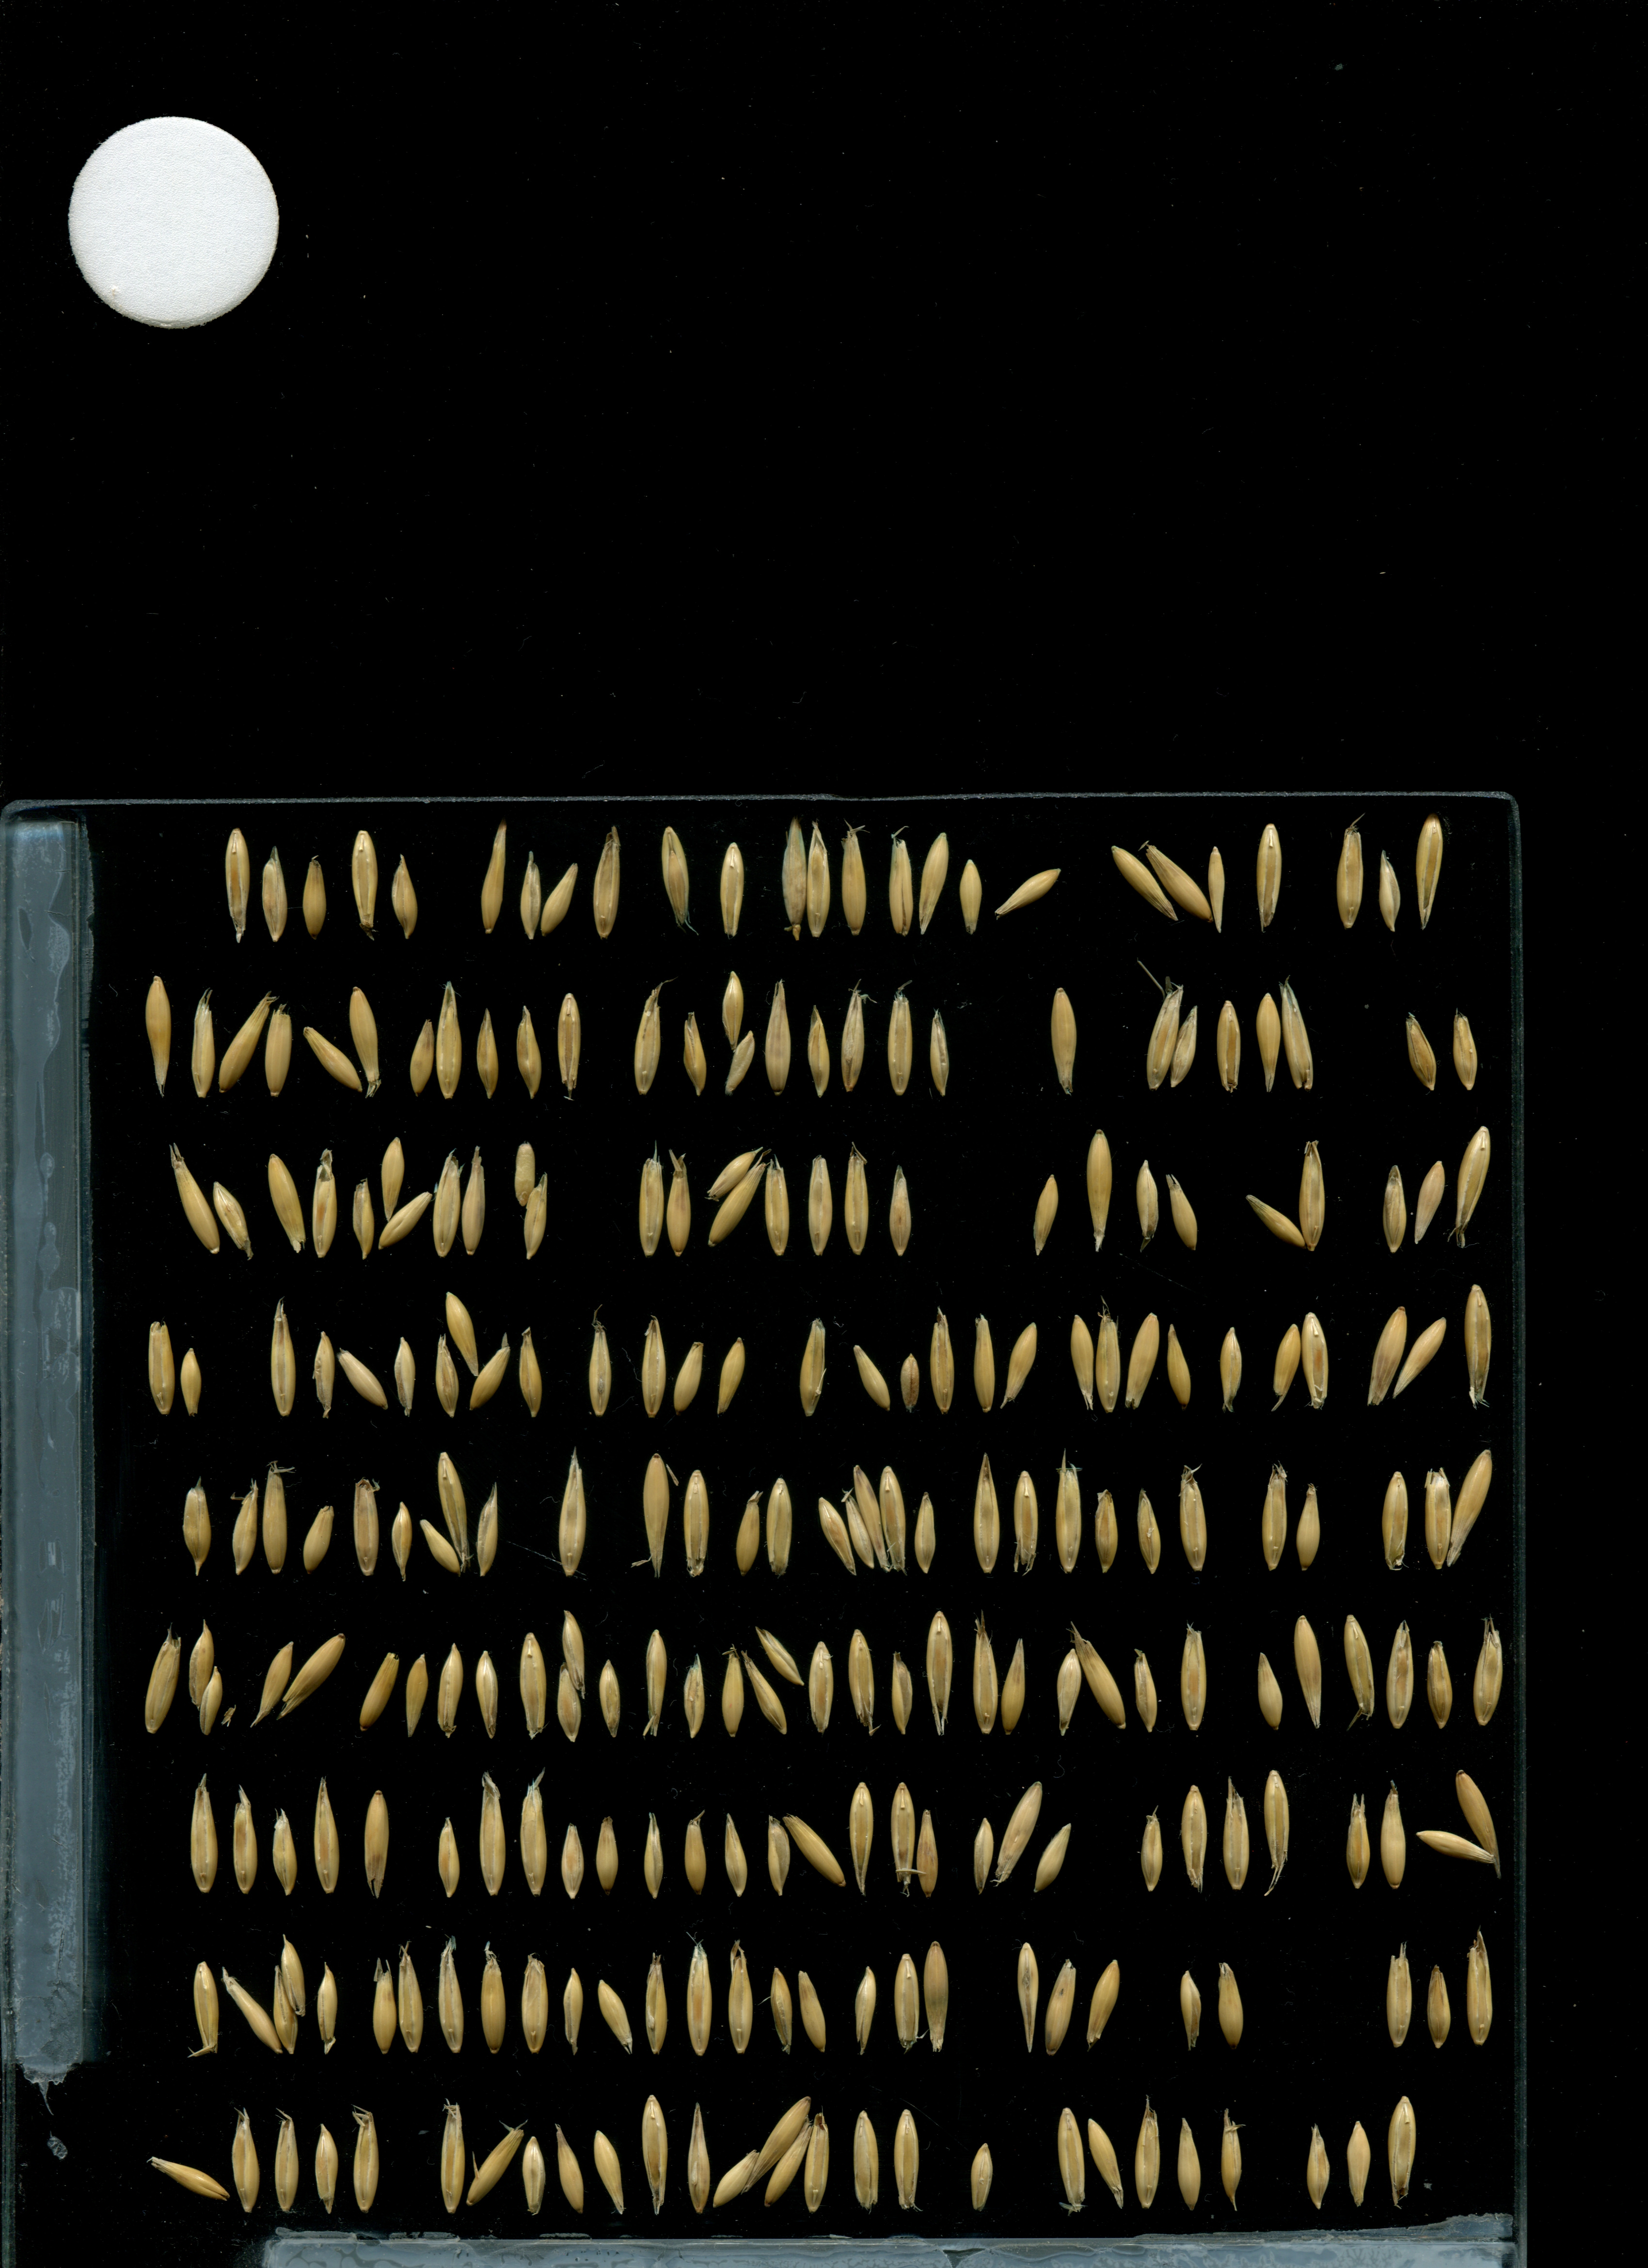WholeGrain: (1440, 1447, 1498, 1571), (1070, 1624, 1130, 1734), (218, 1967, 289, 2058), (748, 2092, 813, 2191), (169, 1141, 222, 1257), (217, 995, 276, 1097), (1146, 836, 1213, 923), (1106, 845, 1178, 924), (995, 1777, 1046, 1886), (704, 1159, 766, 1248), (282, 1632, 345, 1719), (465, 2120, 528, 2206), (782, 1808, 847, 1891), (254, 829, 298, 951), (296, 829, 340, 951), (336, 822, 380, 944), (470, 817, 514, 939), (586, 821, 630, 942), (215, 826, 259, 946), (555, 1446, 593, 1581), (636, 1442, 674, 1578), (676, 1449, 715, 1585), (968, 1446, 1007, 1581), (1049, 1442, 1088, 1578), (1009, 1449, 1048, 1585), (919, 1609, 960, 1738), (1143, 979, 1188, 1092), (655, 819, 697, 940), (1173, 1460, 1213, 1583), (1252, 1458, 1292, 1581), (1451, 1122, 1490, 1248), (850, 1463, 893, 1579), (352, 1636, 401, 1734), (963, 1615, 1004, 1734), (1458, 1282, 1497, 1407), (1289, 1613, 1329, 1731), (1173, 1616, 1213, 1734), (1454, 1770, 1504, 1867), (1123, 1294, 1160, 1421), (1081, 2110, 1129, 2208), (739, 1650, 791, 1741), (997, 1624, 1035, 1741), (842, 1620, 880, 1738), (773, 819, 810, 942), (880, 819, 917, 942), (914, 817, 951, 940), (1412, 810, 1449, 933), (1210, 979, 1247, 1102), (880, 976, 917, 1099), (630, 977, 667, 1101), (347, 977, 384, 1101), (137, 970, 174, 1093), (1079, 1125, 1116, 1248), (803, 1138, 840, 1261), (632, 1145, 669, 1268), (428, 1139, 465, 1263), (148, 2152, 234, 2205), (299, 1025, 364, 1093), (384, 843, 426, 949), (710, 836, 752, 942), (141, 1631, 183, 1736), (1365, 1303, 1407, 1407), (1338, 1611, 1377, 1724), (799, 817, 835, 940), (1252, 815, 1287, 939), (1333, 814, 1368, 937), (1280, 970, 1315, 1093), (1252, 970, 1287, 1093), (1046, 974, 1081, 1097), (836, 974, 872, 1097), (759, 977, 794, 1101), (549, 977, 585, 1101), (433, 977, 468, 1101), (187, 984, 222, 1108), (1296, 1132, 1331, 1255), (838, 1138, 873, 1261), (759, 1138, 794, 1261), (662, 1145, 697, 1268), (430, 1139, 465, 1263), (637, 2092, 673, 2215), (764, 2118, 815, 2203), (835, 817, 870, 939), (255, 1462, 292, 1576), (347, 2101, 384, 2215), (229, 2102, 266, 2217), (1393, 1317, 1446, 1396), (178, 1479, 222, 1574), (812, 1491, 859, 1579), (268, 1150, 306, 1257), (990, 863, 1065, 917), (1090, 1298, 1123, 1421), (250, 1638, 296, 1727), (437, 1447, 472, 1564), (803, 1632, 842, 1738), (1130, 1634, 1169, 1740), (754, 1624, 812, 1694), (269, 2102, 305, 2217), (262, 995, 299, 1102), (268, 1307, 303, 1419), (1055, 2101, 1090, 2213), (347, 1472, 382, 1583), (477, 1775, 509, 1898), (1041, 1949, 1076, 2060), (1421, 1463, 1456, 1572), (1093, 1476, 1129, 1585), (1423, 1624, 1458, 1733), (1296, 1307, 1333, 1410), (849, 1338, 898, 1416), (1245, 1190, 1306, 1252), (372, 1192, 435, 1252), (1294, 1474, 1329, 1581), (1377, 1465, 1412, 1572), (1132, 1477, 1167, 1585), (909, 1476, 944, 1583), (761, 1474, 796, 1581), (1468, 1622, 1504, 1729), (1384, 1620, 1419, 1727), (1085, 1953, 1123, 2050), (143, 1317, 178, 1423), (1134, 2097, 1167, 2208), (190, 1773, 220, 1896), (229, 1778, 259, 1902), (312, 1775, 342, 1898), (361, 1780, 391, 1903), (519, 1773, 549, 1896), (847, 1775, 877, 1898), (887, 1775, 917, 1898), (1181, 1771, 1211, 1895), (1262, 1768, 1292, 1891), (1377, 1768, 1407, 1891), (1063, 1307, 1097, 1416), (444, 1284, 481, 1382), (1049, 1641, 1086, 1740), (1416, 1824, 1498, 1868), (1220, 1771, 1250, 1893), (479, 1940, 509, 2060), (880, 1462, 910, 1579), (1213, 1321, 1250, 1416), (467, 1338, 514, 1412), (703, 1145, 761, 1204), (1410, 1157, 1449, 1247), (225, 1474, 261, 1572), (518, 1622, 546, 1745), (338, 1347, 391, 1412), (1465, 1926, 1493, 2048), (1014, 1937, 1042, 2058), (213, 1174, 252, 1263), (852, 2104, 884, 2212), (884, 1164, 921, 1255), (1026, 1166, 1063, 1257), (928, 1310, 958, 1423), (639, 1310, 669, 1423), (521, 1939, 549, 2058), (437, 1937, 465, 2057), (396, 1935, 424, 2055), (511, 1004, 544, 1104), (583, 1315, 614, 1421), (924, 1937, 953, 2055), (1164, 1167, 1201, 1257), (1125, 1157, 1162, 1247), (1375, 1162, 1412, 1252), (188, 1956, 222, 2055), (967, 1310, 998, 1414), (796, 1315, 828, 1419), (541, 859, 583, 937), (717, 1027, 761, 1101), (1387, 2088, 1414, 2212), (732, 1484, 766, 1581), (1034, 1819, 1074, 1898), (597, 1976, 636, 2058), (1162, 1322, 1199, 1409), (1004, 1317, 1041, 1403), (474, 1004, 505, 1104), (954, 852, 990, 942), (384, 1495, 419, 1585), (893, 2106, 923, 2212), (893, 1948, 923, 2053), (713, 1333, 752, 1414), (474, 1483, 505, 1581), (438, 2102, 467, 2213), (514, 1326, 548, 1419), (727, 1940, 754, 2058), (687, 1937, 713, 2053), (298, 1500, 338, 1576), (518, 1171, 551, 1263), (1384, 1949, 1414, 2051), (185, 1615, 217, 1710), (1215, 1953, 1247, 2048), (553, 2122, 585, 2217), (416, 1514, 461, 1579), (849, 1958, 879, 2057), (312, 1956, 342, 2055), (794, 1969, 828, 2057), (592, 2129, 625, 2217), (641, 1627, 667, 1738), (715, 2145, 762, 2206), (407, 1000, 435, 1104), (345, 1182, 380, 1264), (644, 1940, 669, 2058), (1203, 840, 1232, 937), (1271, 1317, 1305, 1403), (597, 1638, 625, 1740), (472, 1641, 500, 1743), (437, 1641, 465, 1743), (401, 1641, 430, 1743), (687, 2099, 711, 2215), (803, 1002, 833, 1097), (269, 1807, 299, 1902), (435, 1808, 465, 1903), (558, 1810, 588, 1905), (592, 1807, 622, 1902), (639, 1807, 669, 1902), (681, 1805, 711, 1900), (722, 1805, 752, 1900), (764, 1805, 794, 1900), (914, 1805, 944, 1900), (968, 1807, 998, 1902), (1137, 1805, 1167, 1900), (1343, 1796, 1373, 1891), (1423, 1956, 1453, 2051), (1176, 1956, 1206, 2051), (430, 1335, 463, 1419), (722, 1641, 750, 1741), (680, 1641, 708, 1741), (560, 1606, 590, 1699), (1405, 1005, 1437, 1093), (924, 1009, 956, 1097), (680, 1007, 711, 1095), (313, 1150, 338, 1263), (310, 1324, 338, 1423), (1169, 1004, 1201, 1090), (671, 1336, 706, 1414), (280, 1930, 308, 2027), (842, 1486, 873, 1571), (1174, 2111, 1203, 2206), (1449, 1004, 1479, 1092), (1254, 1646, 1284, 1734), (313, 2120, 342, 2213), (806, 2113, 831, 2219), (1373, 847, 1403, 933), (389, 1335, 419, 1421), (889, 1645, 916, 1741), (766, 1962, 792, 2058), (372, 1956, 396, 2057), (271, 1963, 298, 2055), (1347, 2113, 1372, 2210), (558, 1963, 583, 2058), (555, 1660, 583, 1743), (194, 1666, 225, 1738), (380, 1129, 405, 1220), (1306, 2117, 1329, 2213), (1220, 2110, 1243, 2206), (178, 1345, 206, 1421), (970, 2138, 997, 2217), (516, 852, 539, 939), (720, 965, 743, 1049), (523, 2132, 544, 2219), (514, 1138, 539, 1208), (900, 1345, 921, 1421)
